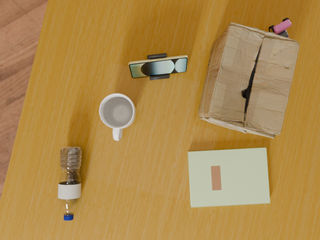book: (188, 148, 270, 207)
bottle: (58, 146, 82, 221)
box: (198, 23, 299, 138)
cup: (99, 93, 136, 141)
phone: (129, 55, 188, 78)
toy_car: (269, 18, 291, 38)
